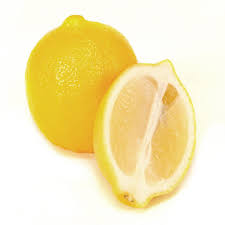lemon: (24, 16, 149, 183)
